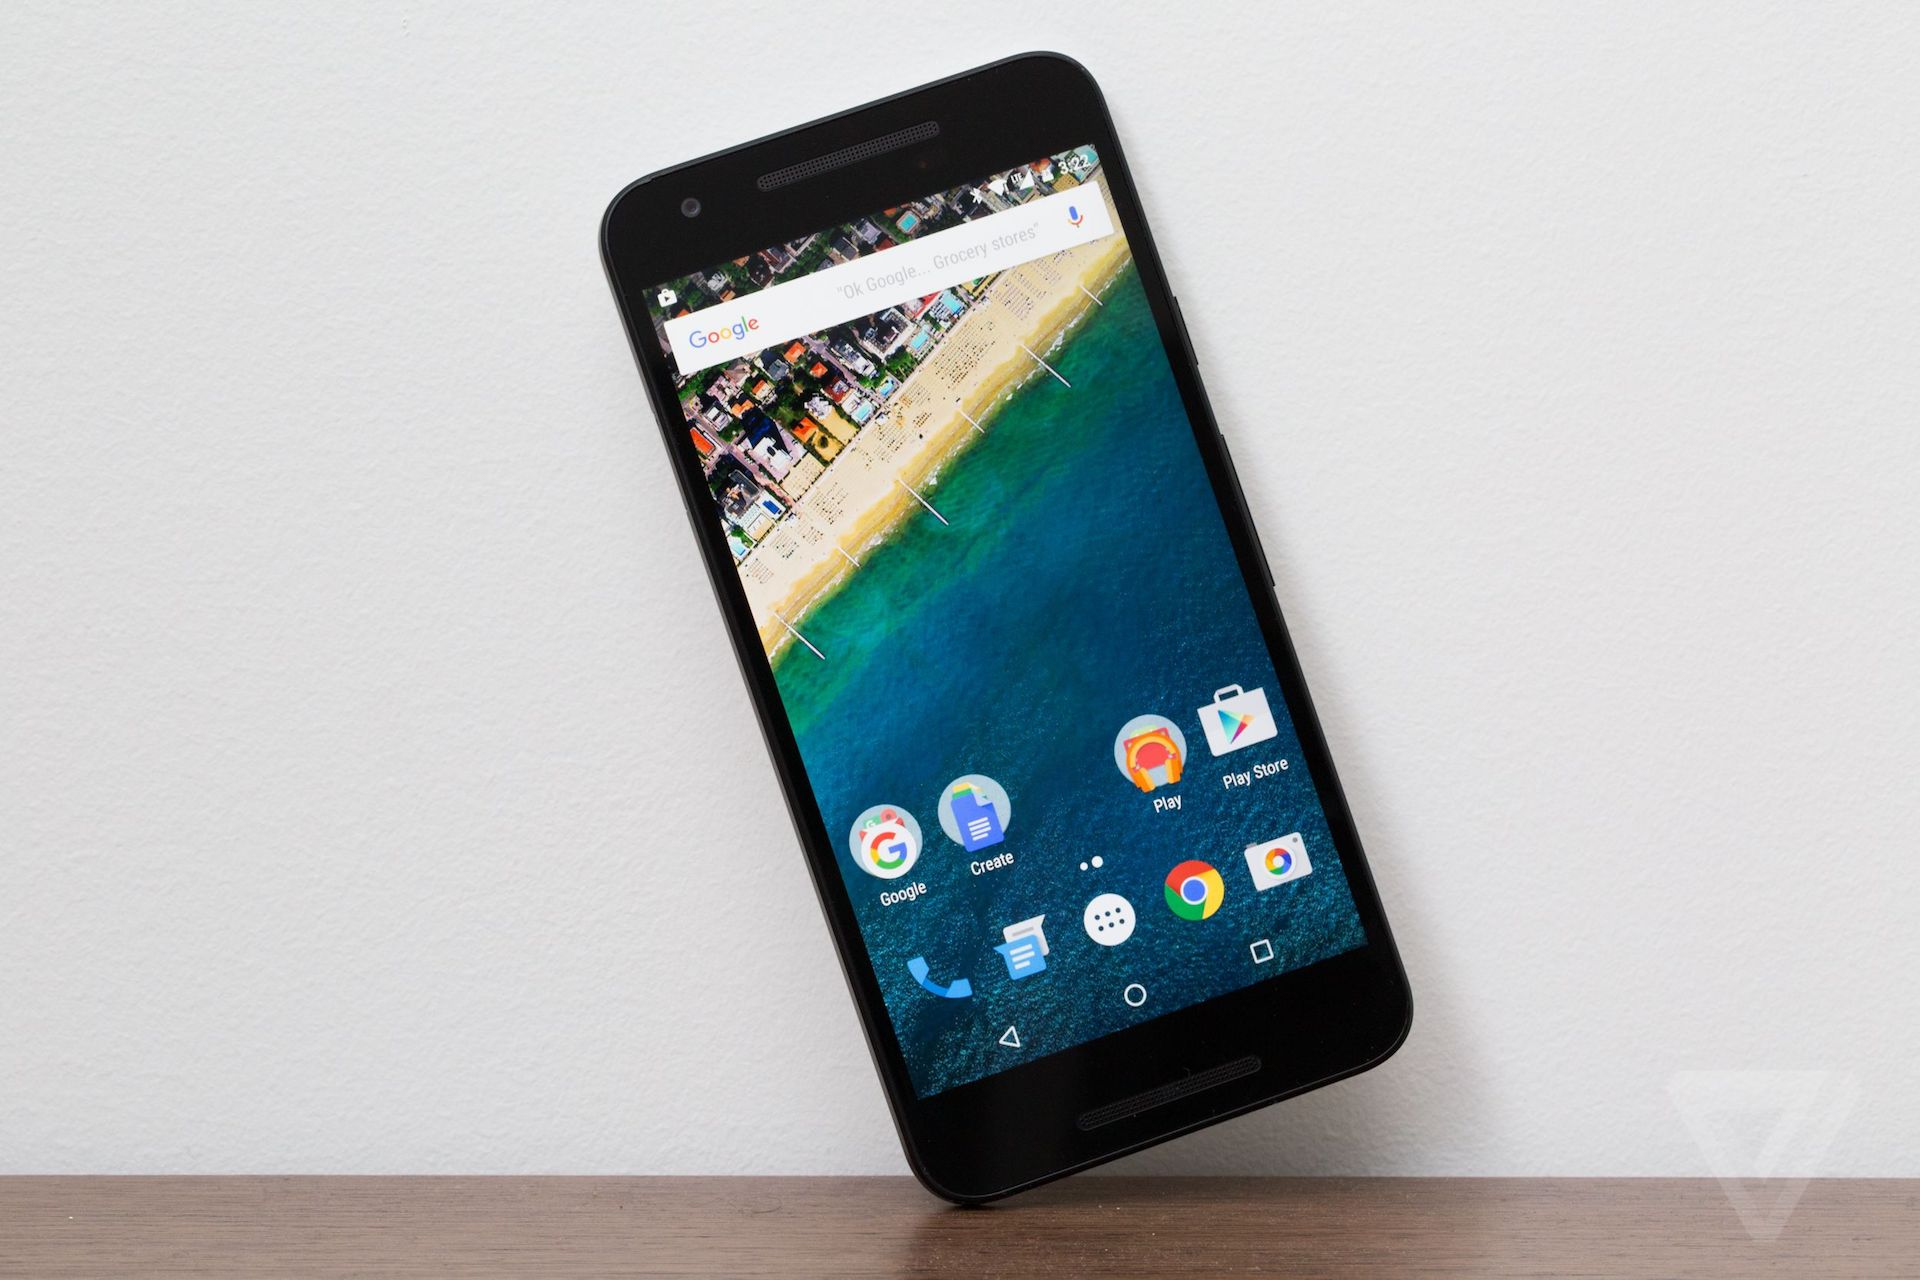smartphone: (597, 47, 1419, 1210)
